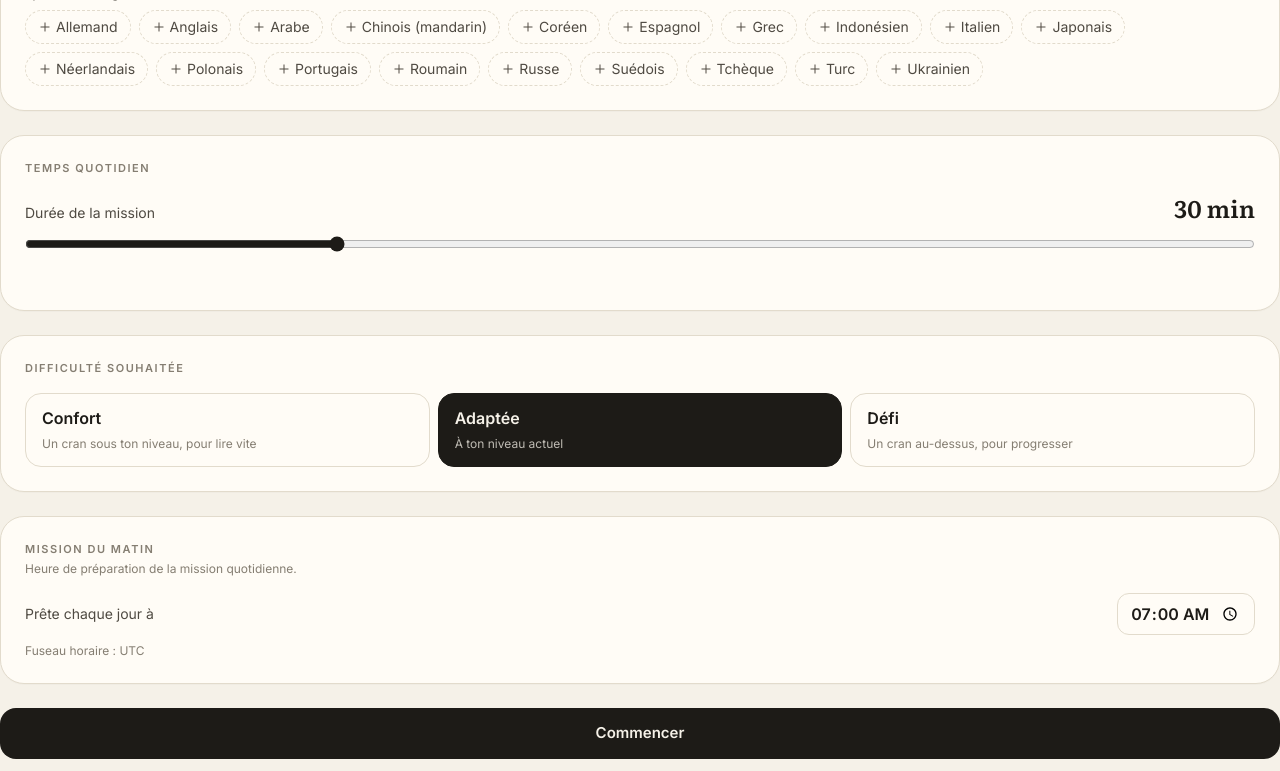
Test: PreferencesForm › first run (onboarding) › starts without any language and refuses to continue until one is chosen
(page scrolled)
Click the button "Commencer" at [640, 733], box [0,708,1279,758]
(page scrolled)
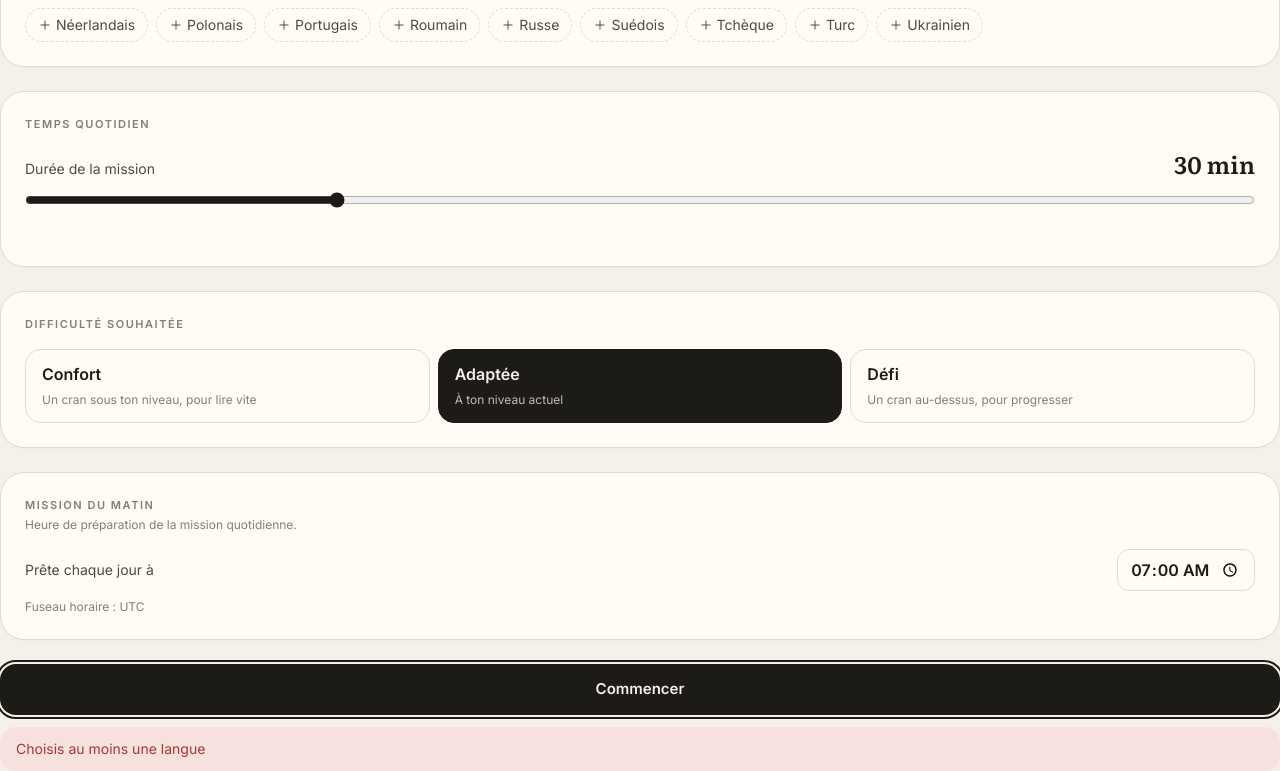
Result: the list item "Choisis au moins une langue" is shown at [16,740,205,756]
